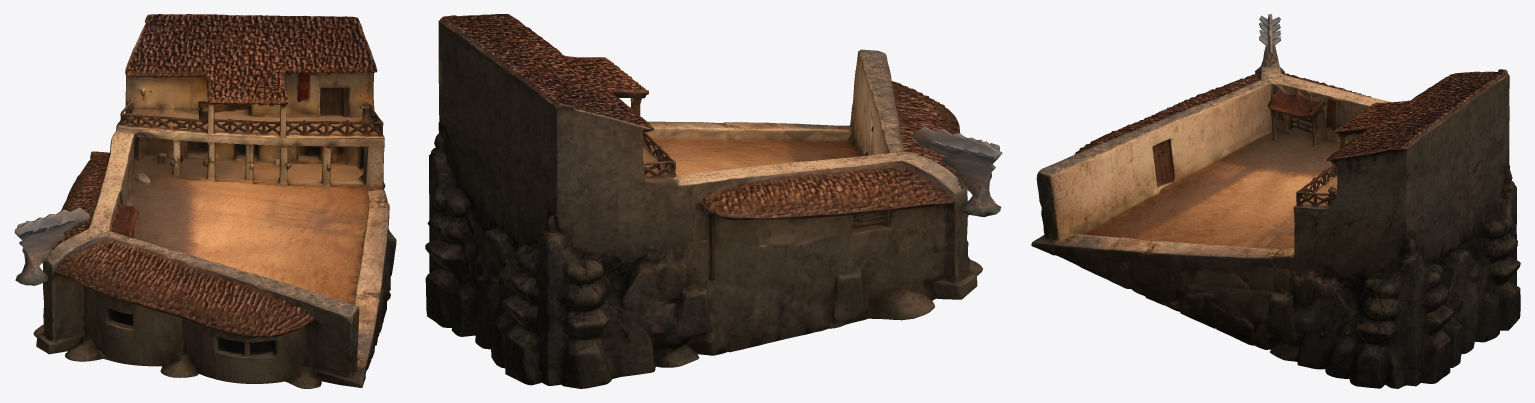
3 views of the same model, side by side, from view 1: azimuth 30°, elevation 25°; view 2: azimuth 150°, elevation 25°; view 3: azimuth 270°, elevation 25° (orthographic). The views are drawn at different scales.
Parts seen in each view (by area): view 1: tripo_node_d7e37f45-6781-4a6a-92c4-1257e9f55e40; view 2: tripo_node_d7e37f45-6781-4a6a-92c4-1257e9f55e40; view 3: tripo_node_d7e37f45-6781-4a6a-92c4-1257e9f55e40.
Boxes of the visible parts, bbox=[...] form: tripo_node_d7e37f45-6781-4a6a-92c4-1257e9f55e40: bbox=[14, 14, 396, 388]; tripo_node_d7e37f45-6781-4a6a-92c4-1257e9f55e40: bbox=[425, 14, 1002, 388]; tripo_node_d7e37f45-6781-4a6a-92c4-1257e9f55e40: bbox=[1031, 14, 1520, 388].
Size of the model in its own units: 0.9956 by 0.5426 by 1.
Materials: 1 (1 with a texture image).
